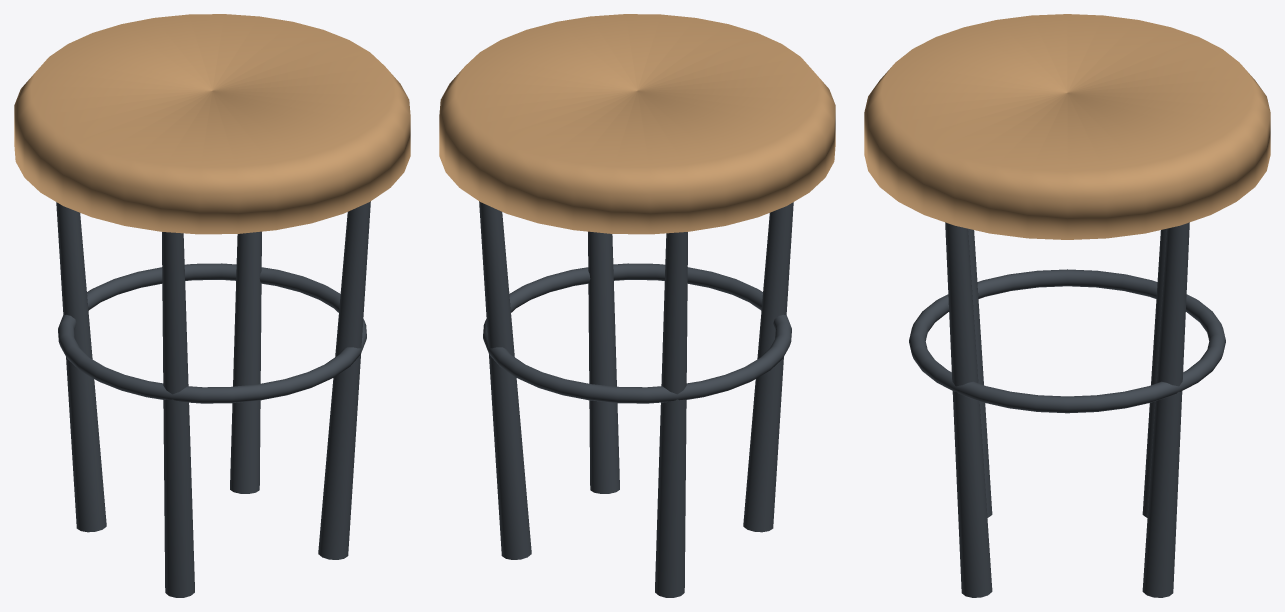
File: stool.glb
3 renders of one model, left to right at view 1: azimuth 30°, elevation 25°; view 2: azimuth 150°, elevation 25°; view 3: azimuth 270°, elevation 25°, orthographic. The views are drawn at different scales.
Visible parts, largest first — view 1: material-1-top, material-0-leg; view 2: material-1-top, material-0-leg; view 3: material-1-top, material-0-leg.
Boxes of the visible parts, bbox=[...] form: material-1-top: bbox=[14, 14, 410, 234]; material-0-leg: bbox=[56, 201, 370, 597]; material-1-top: bbox=[439, 14, 835, 234]; material-0-leg: bbox=[479, 201, 793, 597]; material-1-top: bbox=[864, 14, 1270, 239]; material-0-leg: bbox=[909, 222, 1225, 597].
Size of the model in its own units: 0.36 by 0.45 by 0.36.
